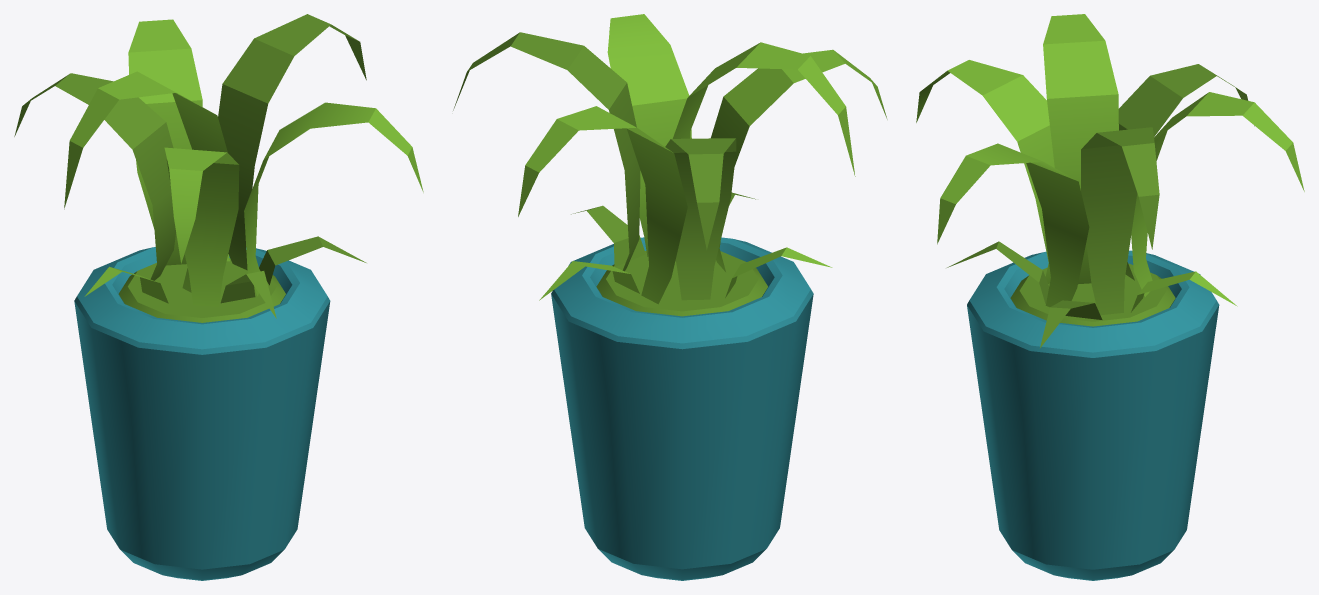
Rendered from Plant_2.obj.
3 renders of one model, left to right at view 1: azimuth 30°, elevation 25°; view 2: azimuth 150°, elevation 25°; view 3: azimuth 270°, elevation 25°, orthographic. The views are drawn at different scales.
Visible parts, largest first — view 1: Plant_2; view 2: Plant_2; view 3: Plant_2.
Boxes of the visible parts, box(x1,y1,x2,y2) form: Plant_2: box(14, 14, 423, 580); Plant_2: box(453, 14, 887, 580); Plant_2: box(916, 14, 1304, 580).
Size of the model in its own units: 0.6432 by 0.8846 by 0.6307.
